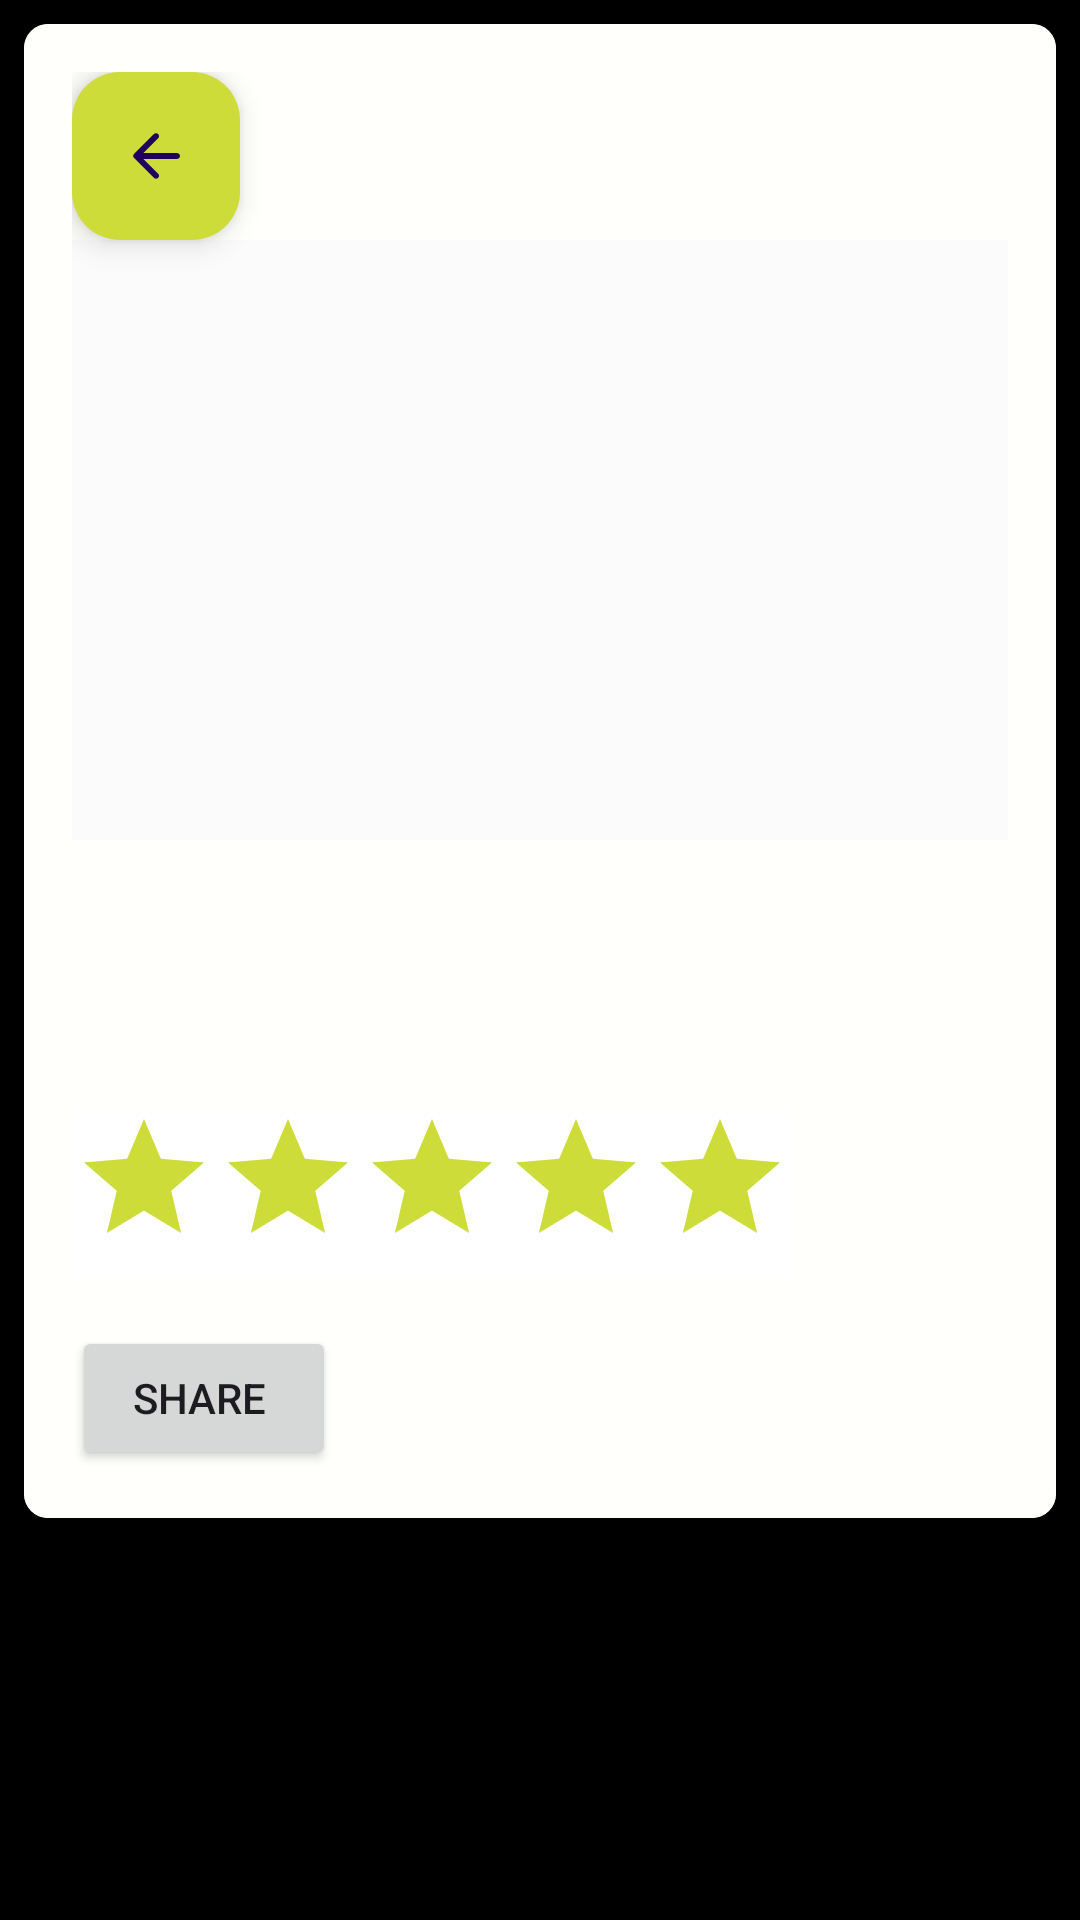

Named icons in this screenshot (1080w x 1920h) and their bounding boxes, (x1, y1, x2, y2):
arrow back: (72, 72, 240, 240)
